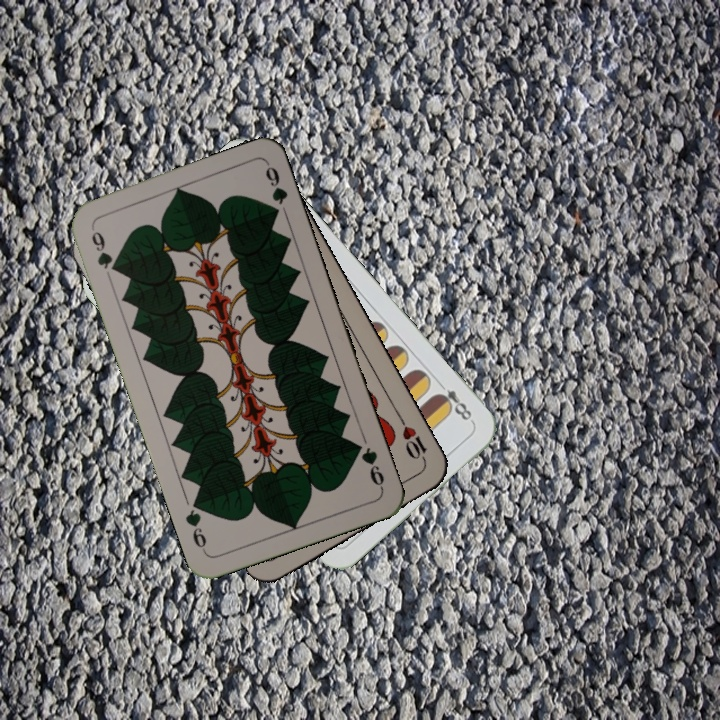E8: (431, 377, 475, 426)
G9: (349, 438, 387, 492), (87, 223, 121, 276)
H10: (394, 413, 430, 468)
